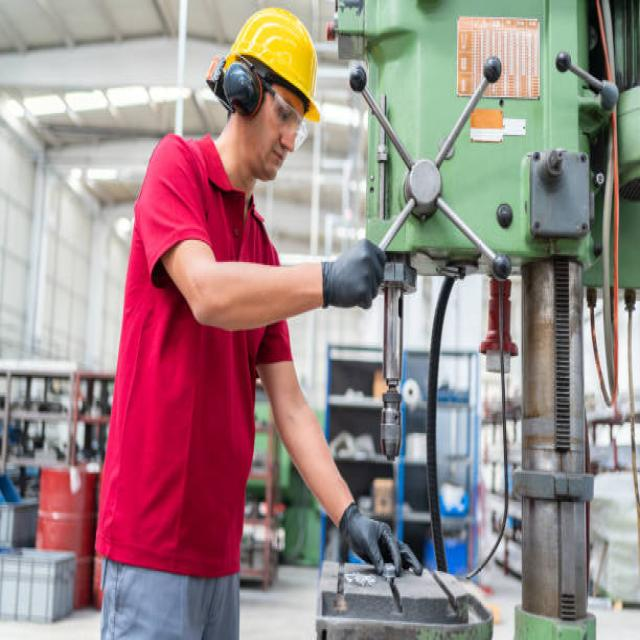Gloves: (337, 497, 427, 583), (318, 231, 392, 312)
helmet: (224, 5, 326, 126)
person: (92, 6, 391, 640)
